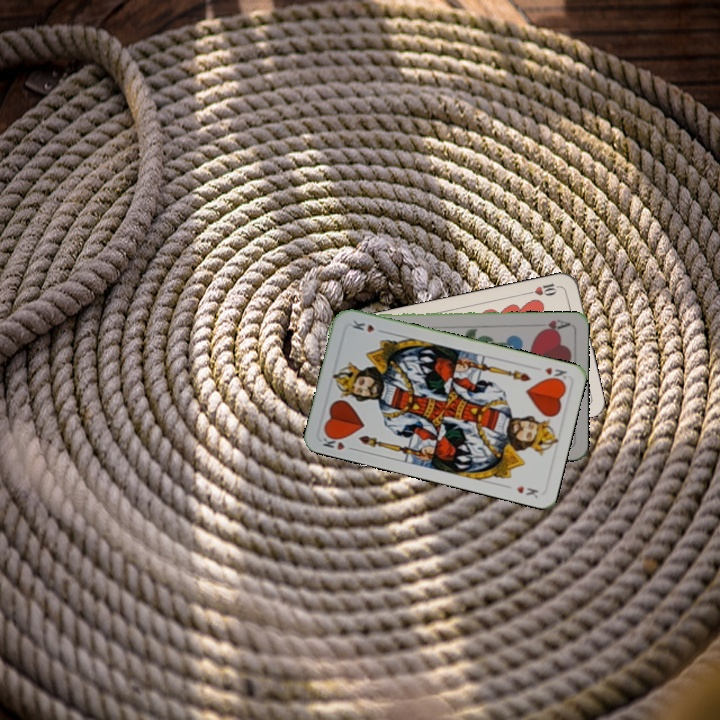H10: (523, 279, 564, 298)
HA: (534, 315, 572, 335)
HK: (318, 429, 358, 453), (541, 363, 569, 385)
